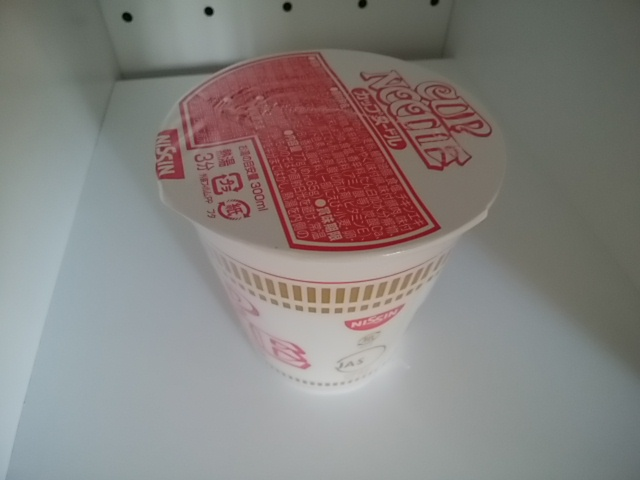cup-ramen: (148, 47, 516, 403)
